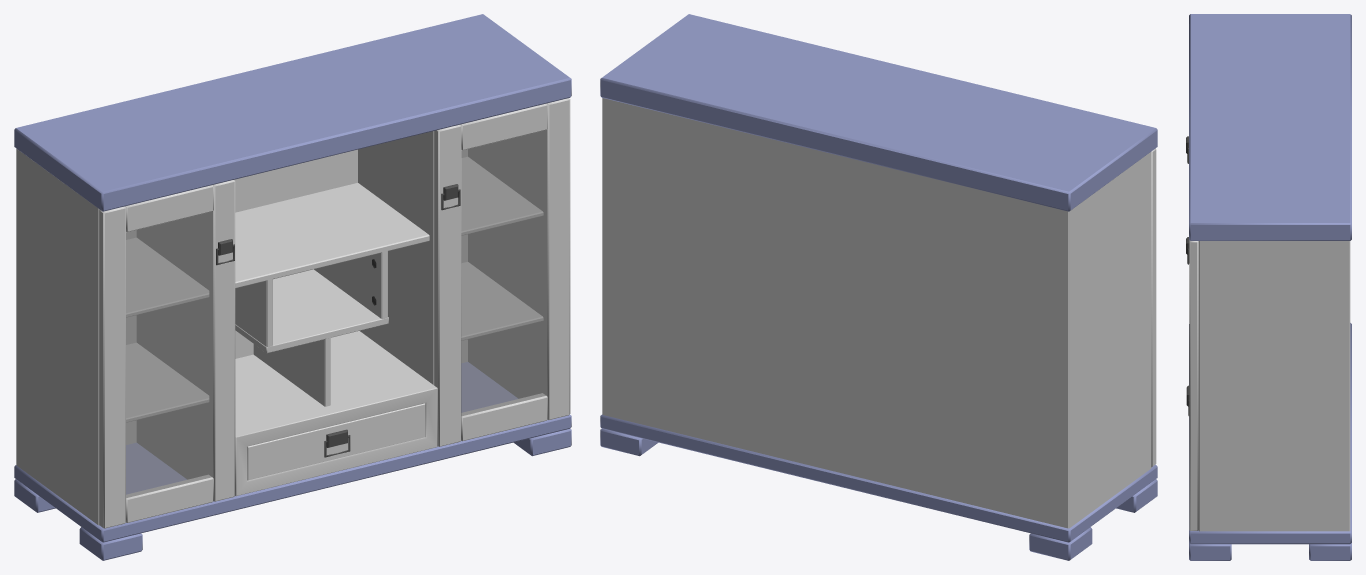
The picture shows the model from 3 angles, left to right: view 1: azimuth 30°, elevation 25°; view 2: azimuth 150°, elevation 25°; view 3: azimuth 270°, elevation 25°; orthographic projection. The views are drawn at different scales.
Visible parts, largest first — view 1: 03I01; view 2: 03I01; view 3: 03I01.
Boxes of the visible parts, x1=… form: 03I01: x1=14, y1=14, x2=571, y2=560; 03I01: x1=600, y1=14, x2=1157, y2=560; 03I01: x1=1186, y1=14, x2=1351, y2=560.
Size of the model in its own units: 120 by 40 by 90.
